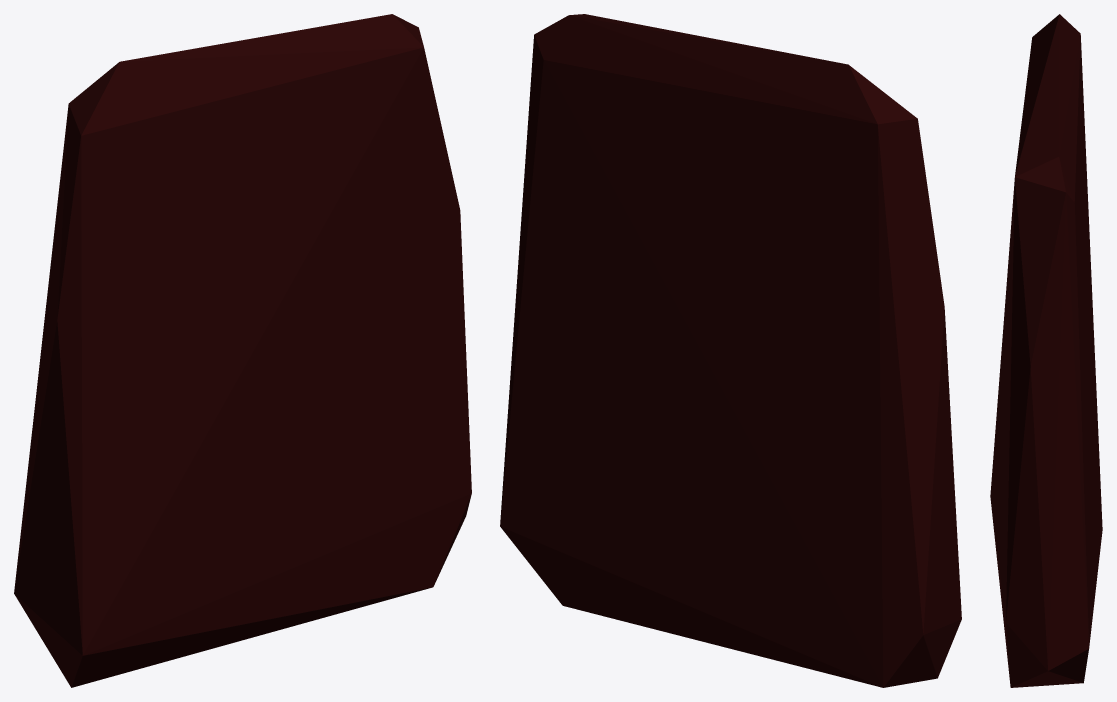
File: UCX_Huge_Castle_Wall.fbx
3 renders of one model, left to right at view 1: azimuth 30°, elevation 25°; view 2: azimuth 150°, elevation 25°; view 3: azimuth 270°, elevation 25°, orthographic. The views are drawn at different scales.
Parts seen in each view (by area): view 1: UCX_Huge_Castle_Wall; view 2: UCX_Huge_Castle_Wall; view 3: UCX_Huge_Castle_Wall.
Part boxes in pixels (x1,y1,x2,y2): UCX_Huge_Castle_Wall: [14, 14, 471, 687]; UCX_Huge_Castle_Wall: [500, 14, 961, 687]; UCX_Huge_Castle_Wall: [990, 14, 1102, 687].
Bounding box in the file's own units: 918 × 1215 × 221.
